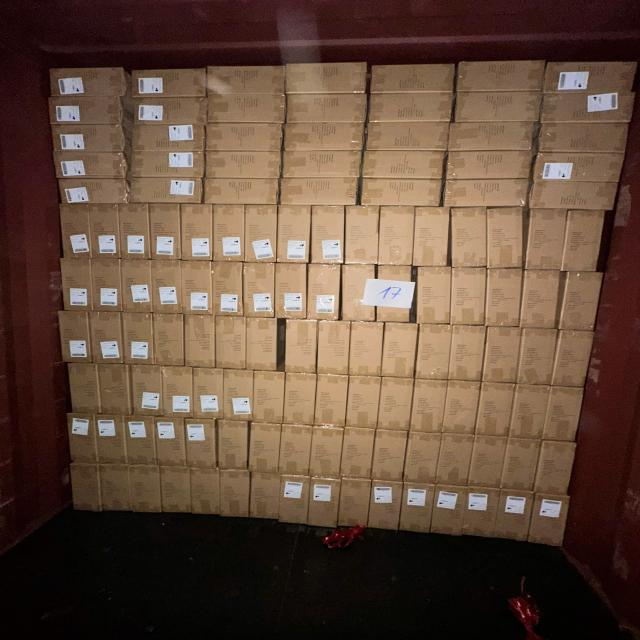Carton: (539, 88, 636, 123), (542, 61, 637, 95), (530, 150, 626, 183), (535, 122, 630, 155), (528, 180, 622, 213), (453, 90, 541, 124), (454, 61, 544, 94), (368, 91, 454, 124), (369, 64, 457, 96), (448, 122, 538, 153), (289, 63, 371, 96), (48, 66, 127, 100), (444, 151, 532, 181), (558, 271, 602, 331), (563, 209, 604, 272), (444, 178, 529, 208), (526, 209, 566, 272), (361, 151, 444, 181), (286, 94, 366, 125), (206, 66, 286, 97), (363, 182, 445, 212), (367, 124, 451, 153), (124, 95, 208, 124), (283, 122, 364, 152), (486, 207, 525, 269), (553, 330, 595, 387), (207, 122, 284, 153), (49, 124, 126, 155), (282, 151, 361, 181), (47, 94, 123, 125), (524, 270, 563, 330), (130, 68, 208, 98), (128, 124, 206, 154), (206, 93, 286, 122), (536, 440, 577, 496), (544, 386, 584, 443), (528, 495, 570, 549), (281, 177, 359, 206), (378, 266, 416, 325), (413, 208, 449, 270), (485, 268, 522, 328), (53, 149, 127, 179), (518, 328, 556, 386), (452, 207, 488, 268), (205, 152, 282, 180), (129, 176, 206, 204), (130, 152, 207, 180), (511, 383, 549, 439), (450, 267, 486, 326), (377, 206, 412, 266), (313, 205, 348, 265), (58, 179, 128, 209), (416, 267, 451, 326), (504, 437, 542, 491), (205, 178, 281, 205), (346, 207, 380, 267), (484, 328, 520, 384), (497, 489, 535, 542), (478, 383, 515, 437), (342, 266, 376, 324), (278, 205, 311, 264), (416, 325, 450, 382), (450, 326, 484, 383), (383, 324, 417, 380), (445, 380, 480, 434), (412, 378, 447, 432), (439, 434, 474, 488), (275, 263, 308, 320), (471, 436, 507, 488), (465, 487, 501, 539), (308, 264, 340, 322), (213, 205, 245, 263), (245, 207, 277, 265), (181, 206, 213, 263), (88, 314, 123, 366), (406, 433, 441, 485), (350, 323, 383, 378), (284, 321, 317, 376), (60, 314, 94, 367), (433, 486, 467, 539), (243, 263, 275, 319), (120, 204, 152, 260), (246, 319, 279, 373), (320, 322, 352, 377), (212, 262, 243, 318), (401, 482, 435, 533), (255, 368, 287, 422), (122, 260, 154, 314), (378, 379, 410, 433), (348, 377, 380, 431), (152, 261, 184, 315), (61, 207, 93, 261), (182, 262, 214, 316), (90, 205, 122, 259), (374, 430, 407, 482), (152, 203, 182, 260), (368, 482, 402, 532), (284, 372, 316, 425), (62, 260, 94, 313), (311, 427, 343, 480), (130, 367, 163, 418), (98, 365, 131, 416), (316, 374, 348, 426), (124, 315, 156, 367), (93, 260, 124, 313), (215, 318, 246, 371), (155, 315, 186, 368), (183, 316, 214, 369), (184, 418, 216, 469), (342, 429, 374, 480), (68, 364, 100, 415), (249, 423, 280, 475), (339, 478, 371, 528), (95, 414, 127, 464), (156, 416, 188, 466), (70, 464, 102, 514), (163, 367, 194, 418), (280, 426, 311, 477), (100, 465, 132, 514), (224, 369, 254, 421), (217, 422, 248, 472), (126, 417, 157, 467), (279, 476, 310, 526), (130, 466, 162, 514), (194, 368, 224, 419), (68, 413, 98, 464), (219, 469, 250, 518), (310, 478, 340, 528), (160, 468, 192, 514), (191, 469, 221, 517), (250, 472, 279, 521)
